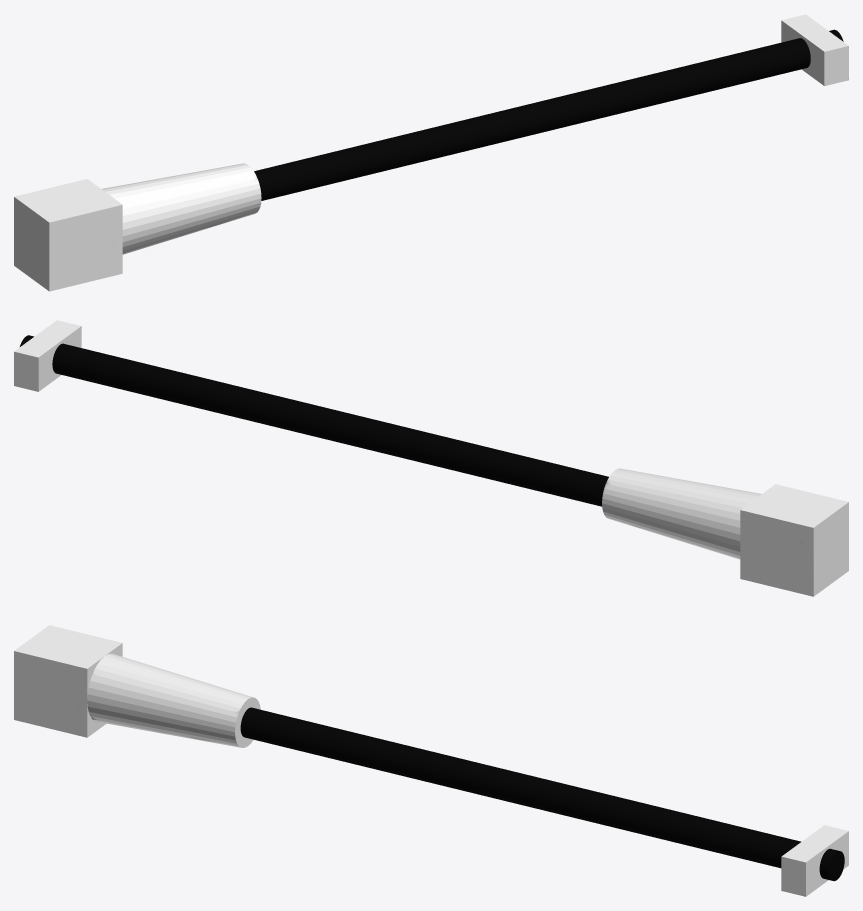
File: eblGun.fbx
3 views of the same model, one above another, from view 1: azimuth 30°, elevation 25°; view 2: azimuth 150°, elevation 25°; view 3: azimuth 330°, elevation 25° (orthographic).
Parts seen in each view (by area): view 1: EBL OOC Gun; view 2: EBL OOC Gun; view 3: EBL OOC Gun.
Boxes of the visible parts, <box> form: EBL OOC Gun: <box>14,14,848,291</box>; EBL OOC Gun: <box>14,320,848,596</box>; EBL OOC Gun: <box>14,625,848,896</box>.
Bounding box in the file's own units: 23.34 × 252 × 20.62.
